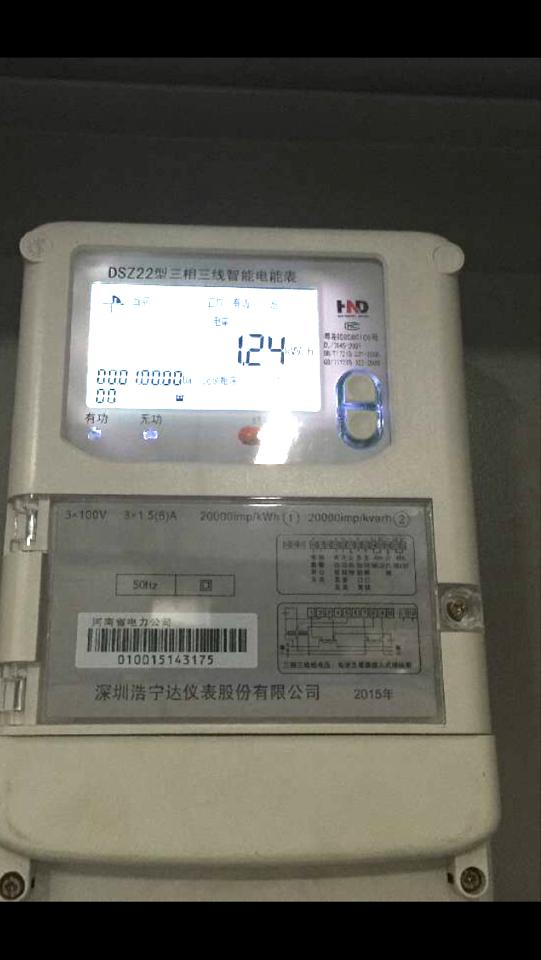digital: (1, 219, 500, 859)
